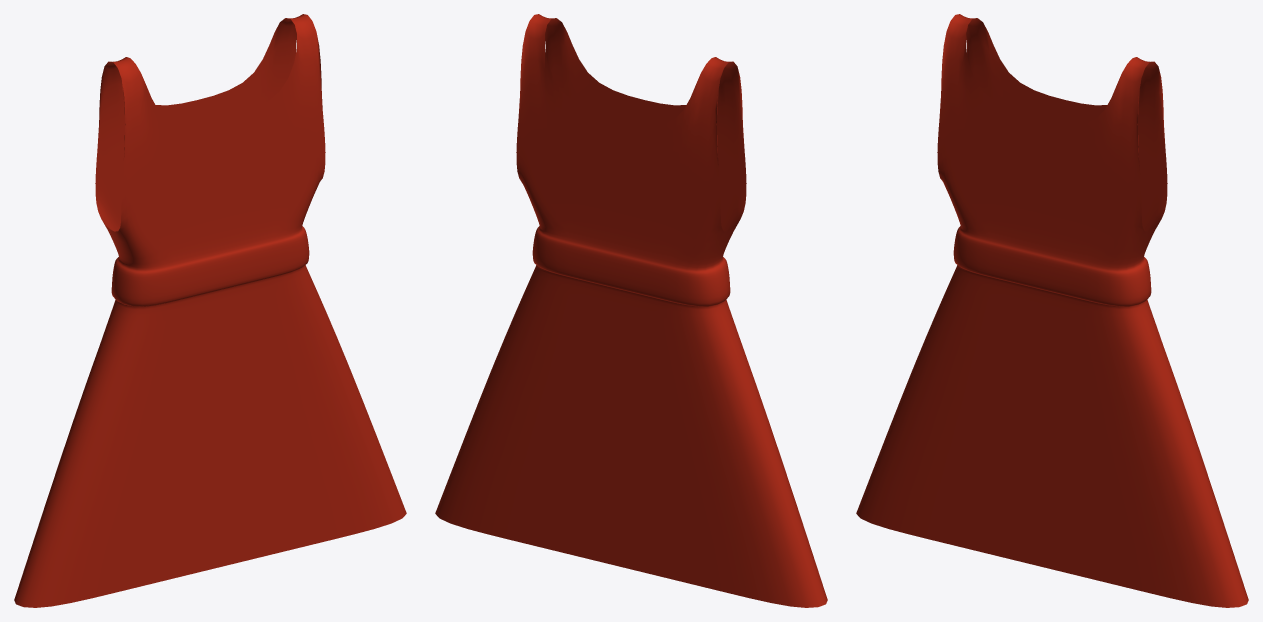
Rendered from dress.fbx.
The picture shows the model from 3 angles, left to right: view 1: azimuth 30°, elevation 25°; view 2: azimuth 150°, elevation 25°; view 3: azimuth 330°, elevation 25°; orthographic projection.
Parts seen in each view (by area): view 1: Dress; view 2: Dress; view 3: Dress.
Part boxes in pixels (left/top/right/bottom): Dress: left=14, top=14, right=406, bottom=607; Dress: left=435, top=14, right=827, bottom=607; Dress: left=856, top=14, right=1248, bottom=607.
Size of the model in its own units: 23.38 by 176 by 224.
